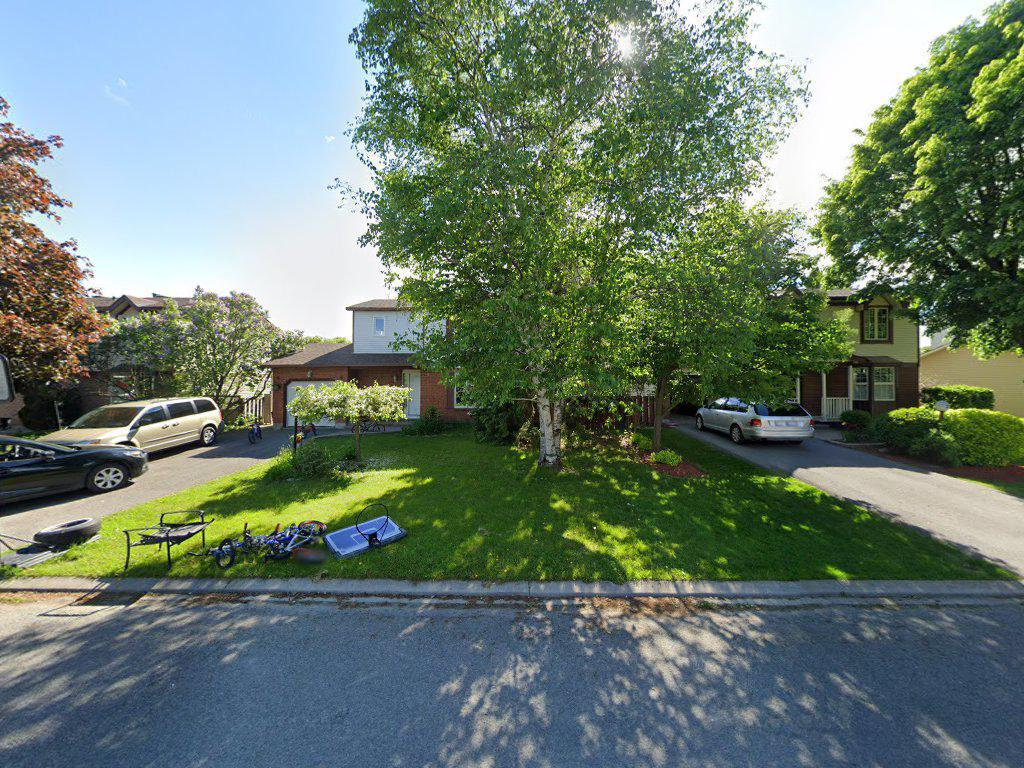trunk: (533, 377, 561, 470)
